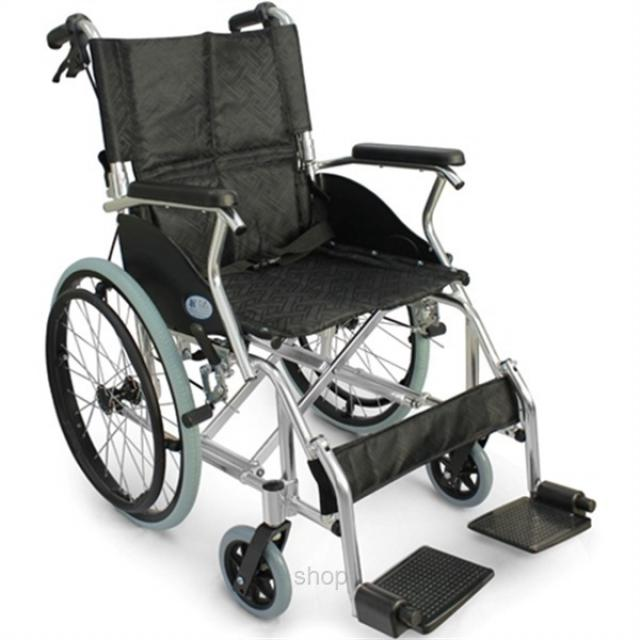wheelchair: (33, 0, 600, 640)
